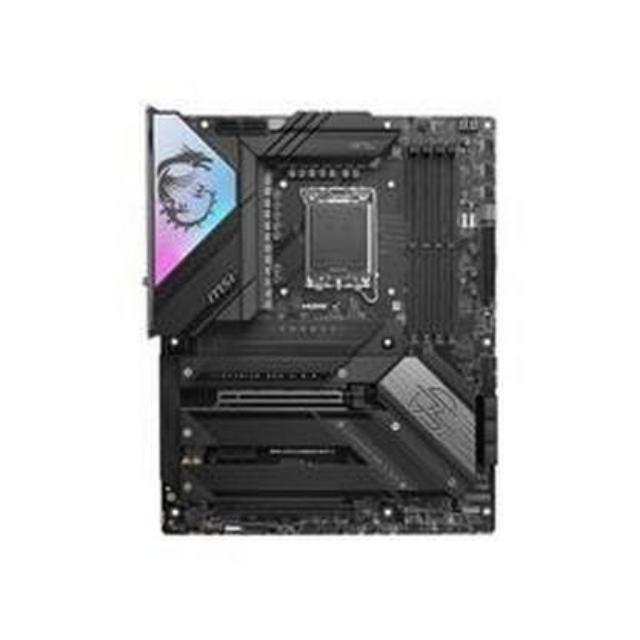Mainboard: (145, 105, 500, 540)
